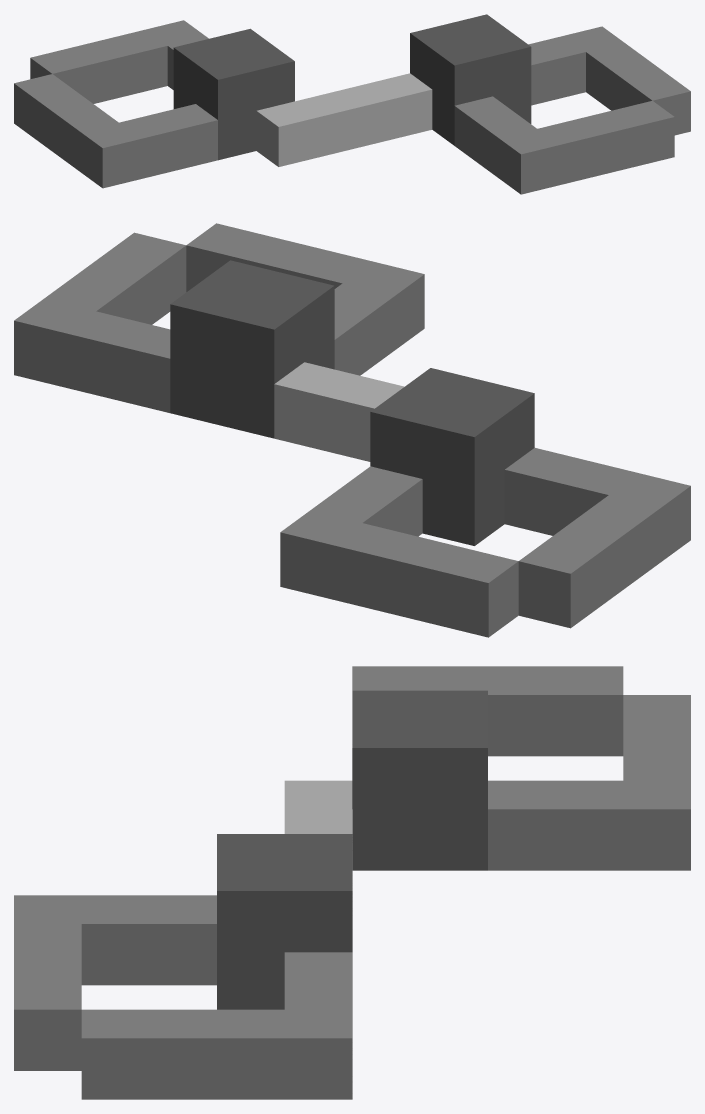
Rendered from Handcuffs.fbx.
3 views of the same model, one above another, from view 1: azimuth 30°, elevation 25°; view 2: azimuth 150°, elevation 25°; view 3: azimuth 270°, elevation 25° (orthographic). The views are drawn at different scales.
Parts seen in each view (by area): view 1: cube_5, cube, cube_10, cube_1, cube_7, cube_6, cube_3, cube_8, cube_2, cube_4, cube_9; view 2: cube_1, cube_10, cube_6, cube_2, cube_8, cube_7, cube, cube_5, cube_3, cube_9, cube_4; view 3: cube_10, cube_1, cube_3, cube_8, cube_4, cube_9, cube, cube_6, cube_2, cube_5, cube_7.
Boxes of the visible parts, x1=… form: cube_5: x1=256, y1=73, x2=432, y2=166; cube: x1=499, y1=100, x2=674, y2=194; cube_10: x1=173, y1=28, x2=294, y2=160; cube_1: x1=410, y1=14, x2=531, y2=145; cube_7: x1=80, y1=104, x2=217, y2=188; cube_6: x1=30, y1=20, x2=205, y2=103; cube_3: x1=586, y1=42, x2=690, y2=135; cube_8: x1=14, y1=74, x2=118, y2=171; cube_2: x1=528, y1=26, x2=623, y2=105; cube_4: x1=454, y1=96, x2=536, y2=178; cube_9: x1=167, y1=36, x2=208, y2=89; cube_1: x1=170, y1=260, x2=334, y2=438; cube_10: x1=370, y1=368, x2=534, y2=545; cube_6: x1=280, y1=510, x2=518, y2=637; cube_2: x1=14, y1=298, x2=170, y2=412; cube_8: x1=518, y1=495, x2=660, y2=628; cube_7: x1=504, y1=448, x2=690, y2=561; cube: x1=186, y1=223, x2=424, y2=350; cube_5: x1=274, y1=362, x2=404, y2=461; cube_3: x1=44, y1=232, x2=186, y2=324; cube_9: x1=311, y1=466, x2=422, y2=536; cube_4: x1=334, y1=283, x2=394, y2=375; cube_10: x1=352, y1=690, x2=487, y2=870; cube_1: x1=217, y1=834, x2=352, y2=1009; cube_3: x1=81, y1=1009, x2=284, y2=1099; cube_8: x1=420, y1=666, x2=623, y2=756; cube_4: x1=81, y1=895, x2=216, y2=985; cube_9: x1=488, y1=780, x2=623, y2=870; cube: x1=14, y1=895, x2=81, y2=1070; cube_6: x1=623, y1=695, x2=690, y2=870; cube_2: x1=284, y1=952, x2=352, y2=1099; cube_5: x1=284, y1=780, x2=352, y2=833; cube_7: x1=352, y1=666, x2=420, y2=690.
Bounding box in the file's own units: 81.25 × 12.5 × 62.5.
1 material, 1 textured.
